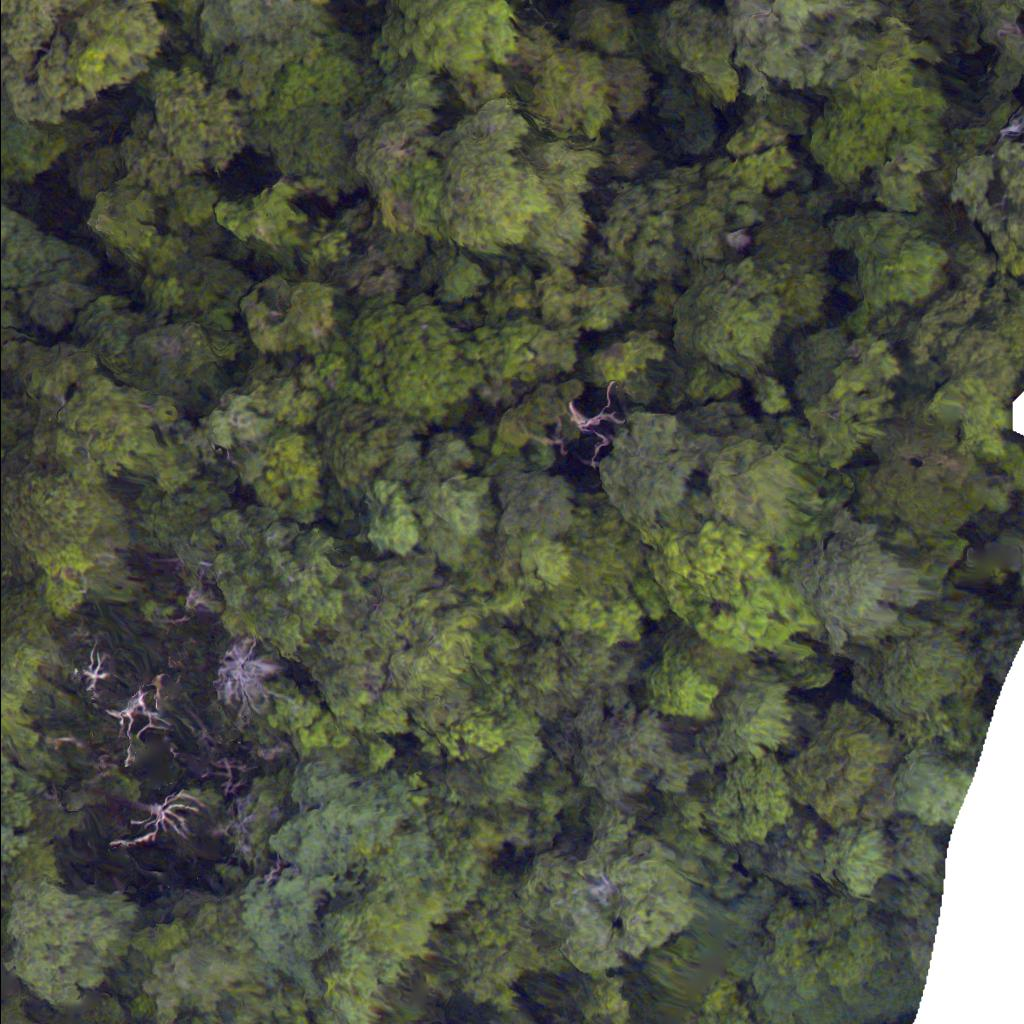crown: (0, 0, 164, 124), (34, 354, 190, 484), (0, 880, 137, 1009), (731, 0, 881, 89)
